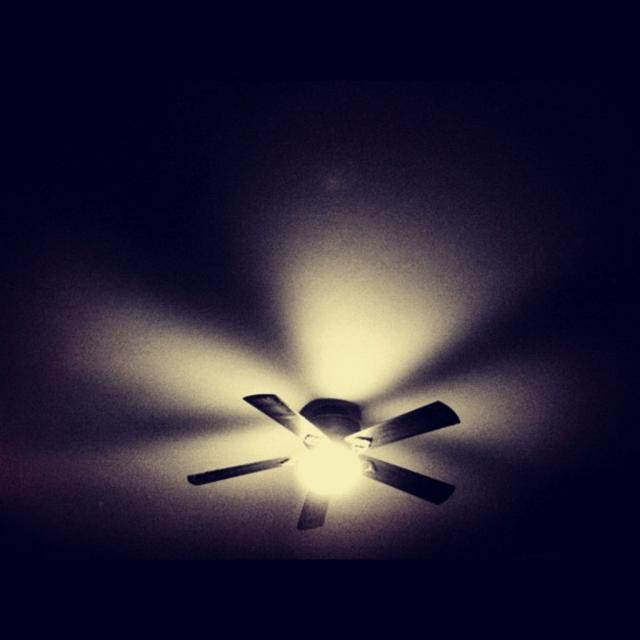Bulb: (218, 394, 458, 534)
